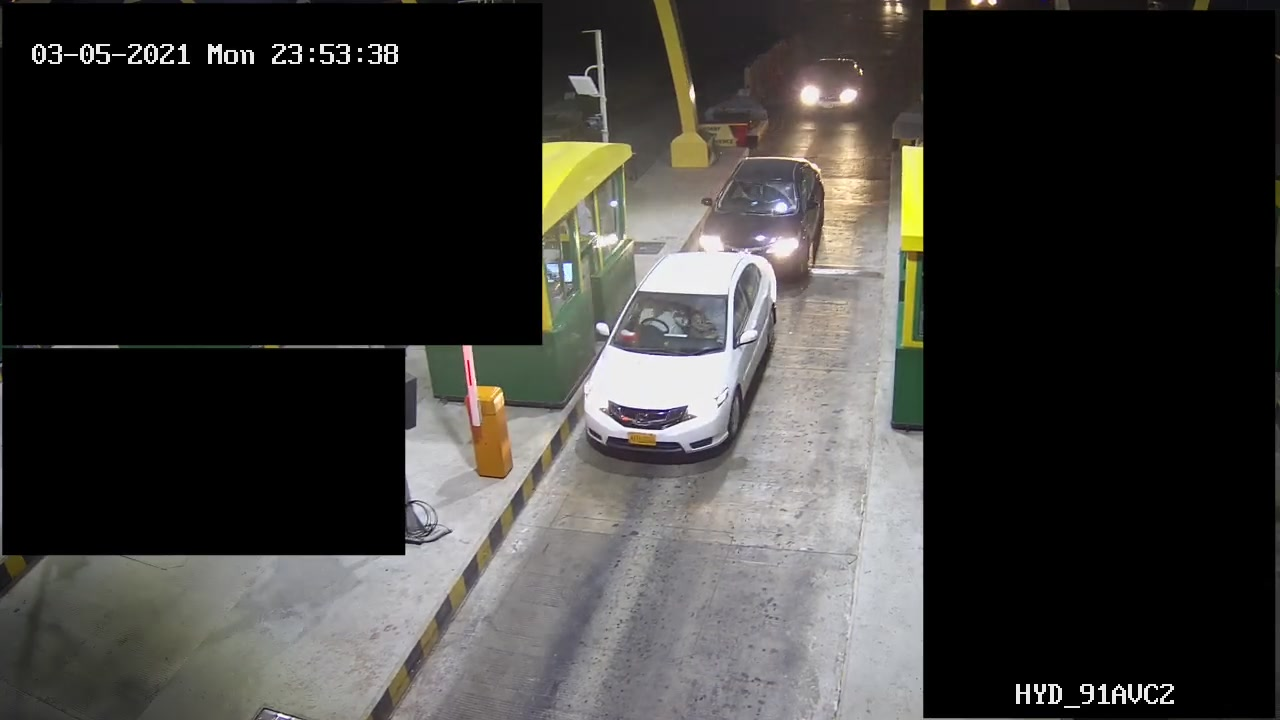F1: (575, 248, 782, 486)
